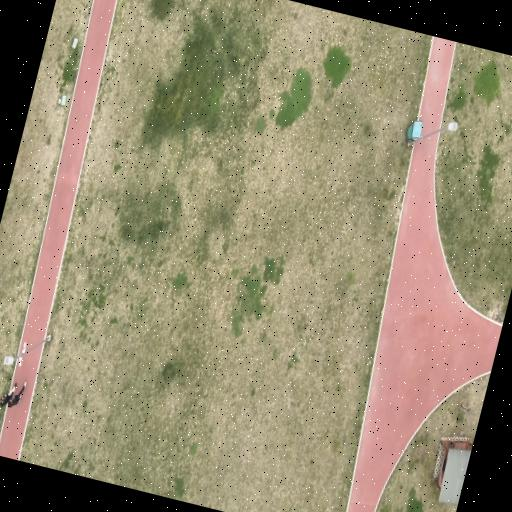person: (8, 381, 27, 407), (0, 383, 16, 406)
